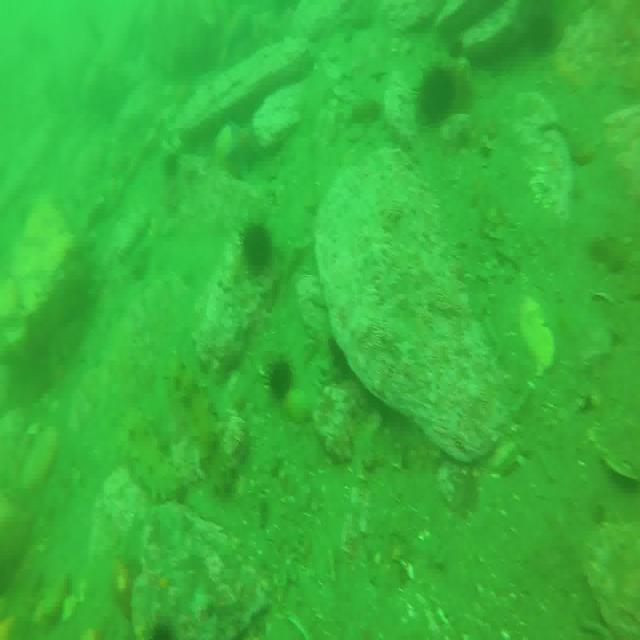echinus: (418, 66, 458, 125), (244, 219, 275, 275), (268, 354, 295, 401)
holothurian: (123, 410, 180, 504), (169, 360, 219, 456)
